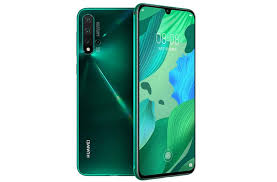huawei: (131, 1, 199, 179), (74, 6, 132, 178)
